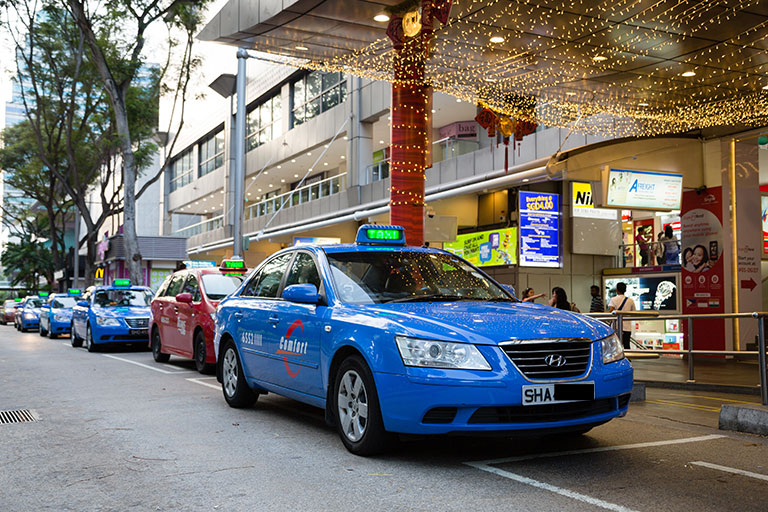car: (204, 219, 647, 469), (54, 273, 174, 373)
